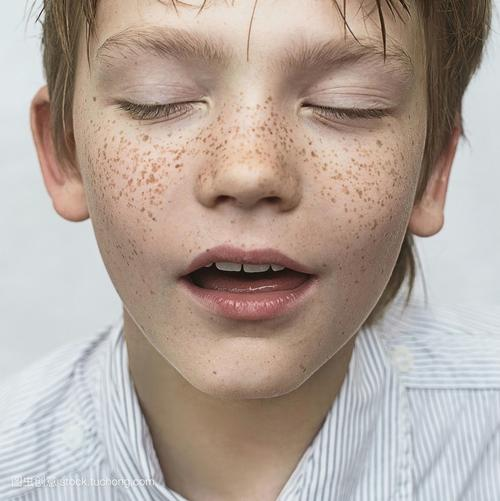no_mask: (17, 2, 485, 400)
